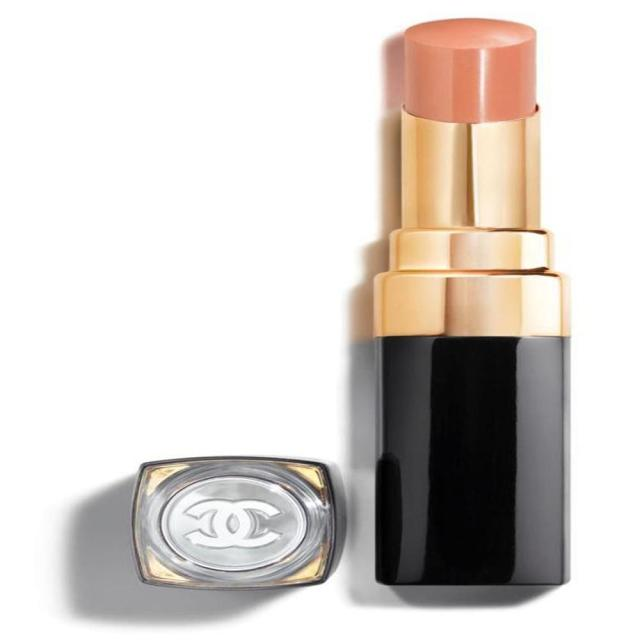lipstick: (359, 0, 593, 595)
